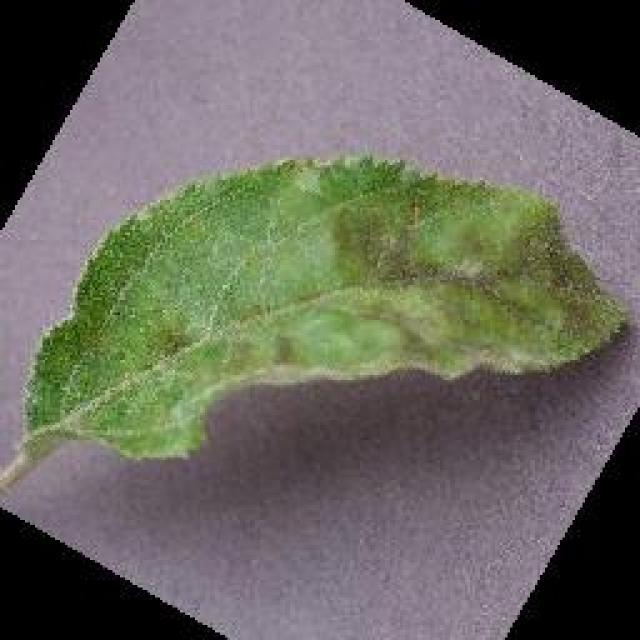apple scab disease: (0, 150, 630, 500)
